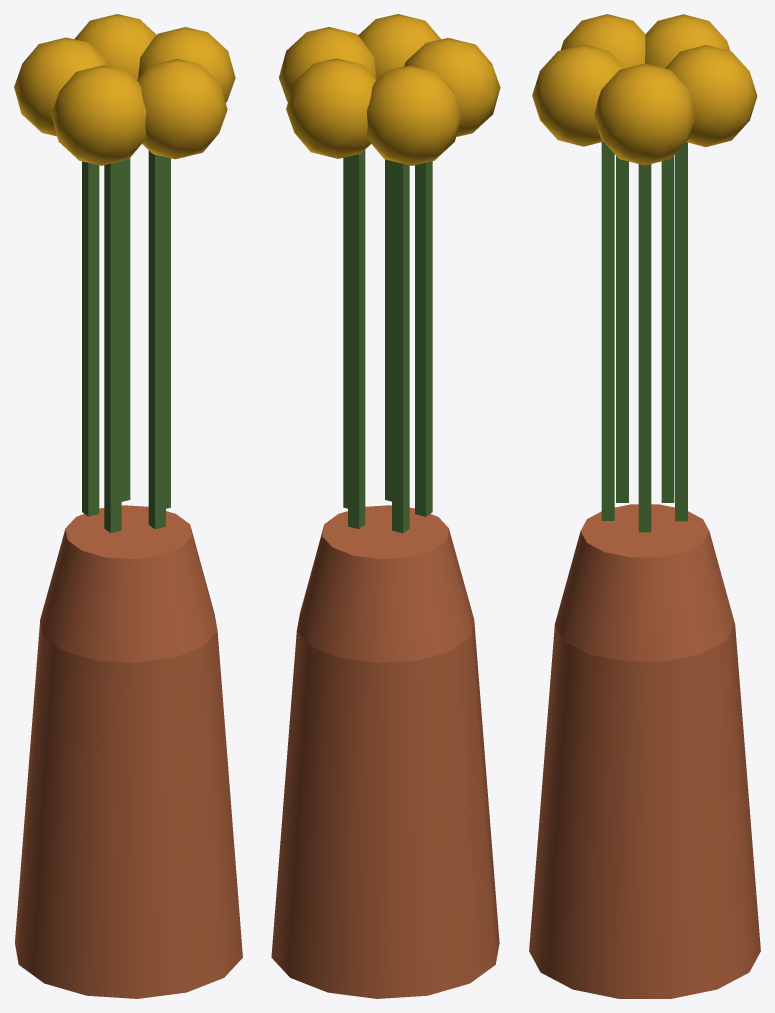
Rendered from vase.glb.
The picture shows the model from 3 angles, left to right: view 1: azimuth 30°, elevation 25°; view 2: azimuth 150°, elevation 25°; view 3: azimuth 270°, elevation 25°; orthographic projection.
Parts seen in each view (by area): view 1: vase; view 2: vase; view 3: vase.
Part boxes in pixels (x1,y1,x2,y2): vase: (14,14,242,998); vase: (271,14,500,998); vase: (529,14,760,998).
Size of the model in its own units: 0.1777 by 0.78 by 0.18.
